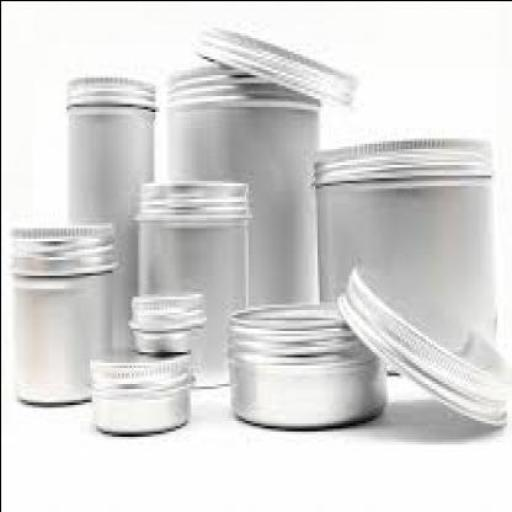metal: (311, 138, 490, 372), (164, 69, 316, 343), (336, 259, 502, 428), (64, 73, 154, 354), (132, 179, 247, 377), (228, 304, 385, 425), (8, 226, 115, 402), (190, 22, 352, 105), (85, 356, 192, 428), (123, 290, 199, 348)
